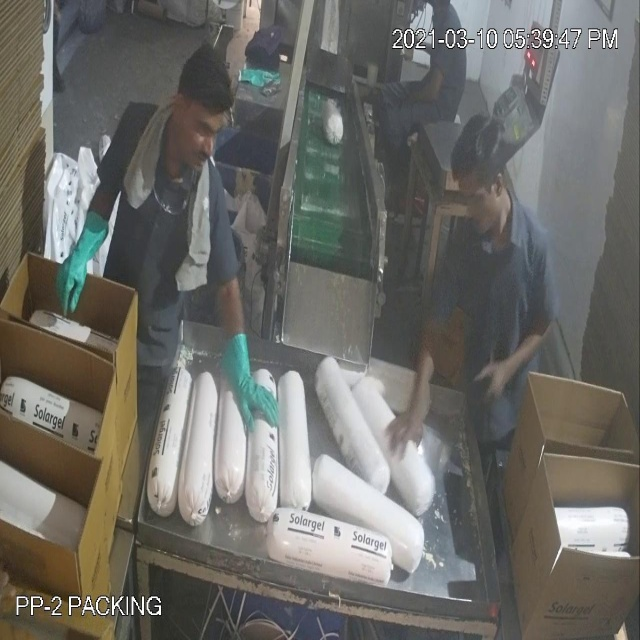Guantes: (216, 319, 281, 439), (56, 205, 112, 315)
Sin_guantes: (382, 293, 450, 470), (476, 304, 558, 409)
